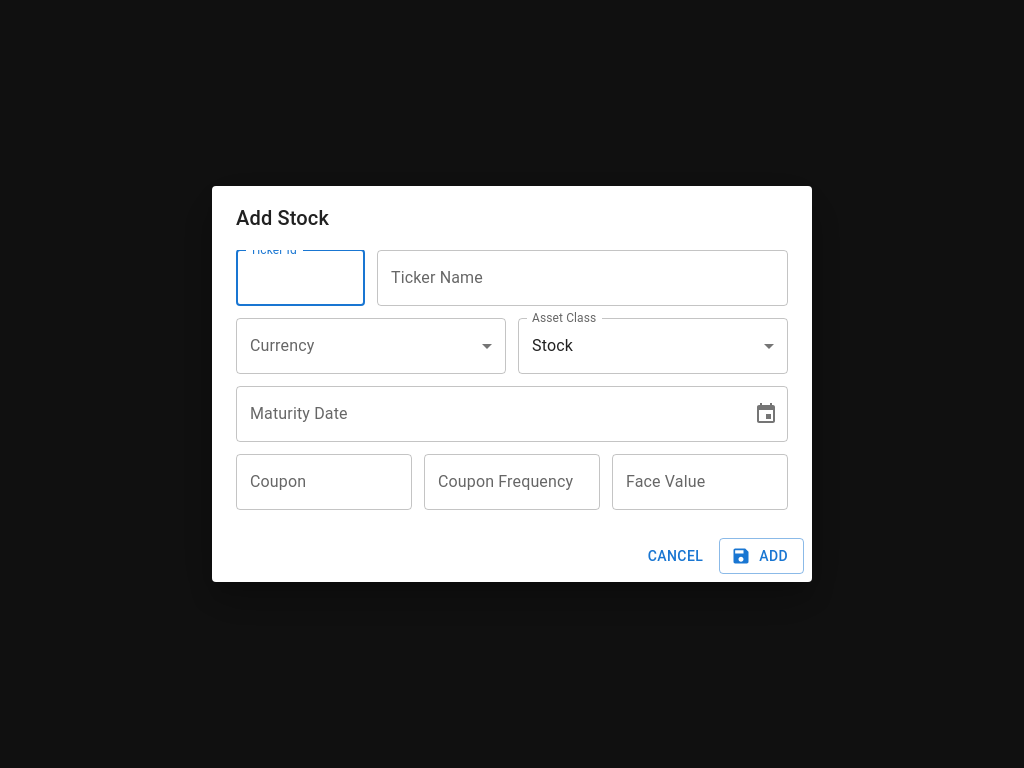
EditFormStock › prevents submission and shows Yup validation errors on empty required fields (Stock Post)
Click the button "Add".
click(762, 556)  # box left=719, top=538, right=804, bottom=574
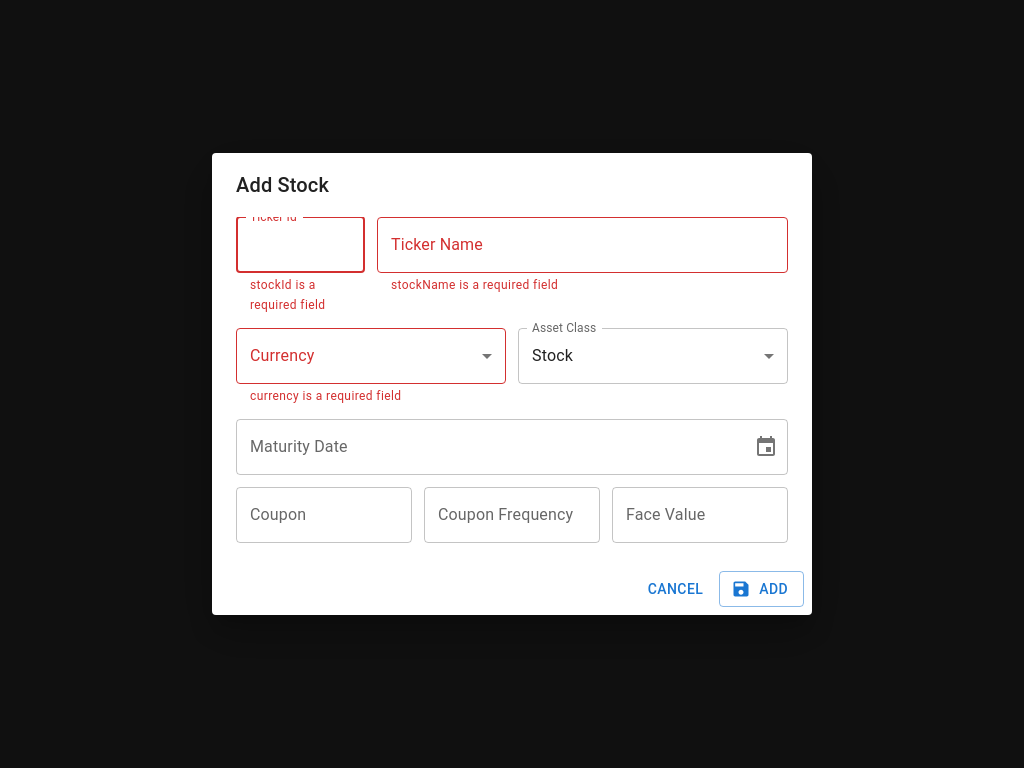
Now the text "stockId is a required field" is shown, box left=250, top=278, right=326, bottom=312
Now the text "stockName is a required field" is shown, box left=391, top=278, right=558, bottom=292
Now the text "currency is a required field" is shown, box left=250, top=389, right=402, bottom=403
